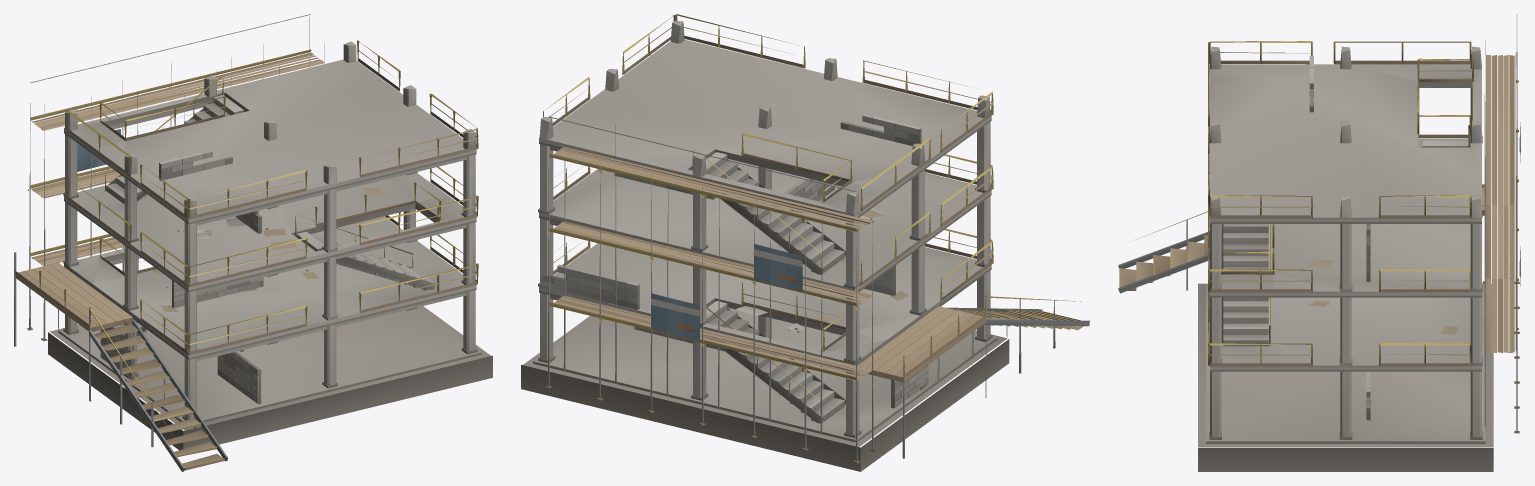
File: tower2.lod1.glb
3 views of the same model, side by side, from view 1: azimuth 30°, elevation 25°; view 2: azimuth 150°, elevation 25°; view 3: azimuth 270°, elevation 25° (orthographic). The views are drawn at different scales.
Size of the model in its own units: 19.26 by 14.1 by 17.77.
